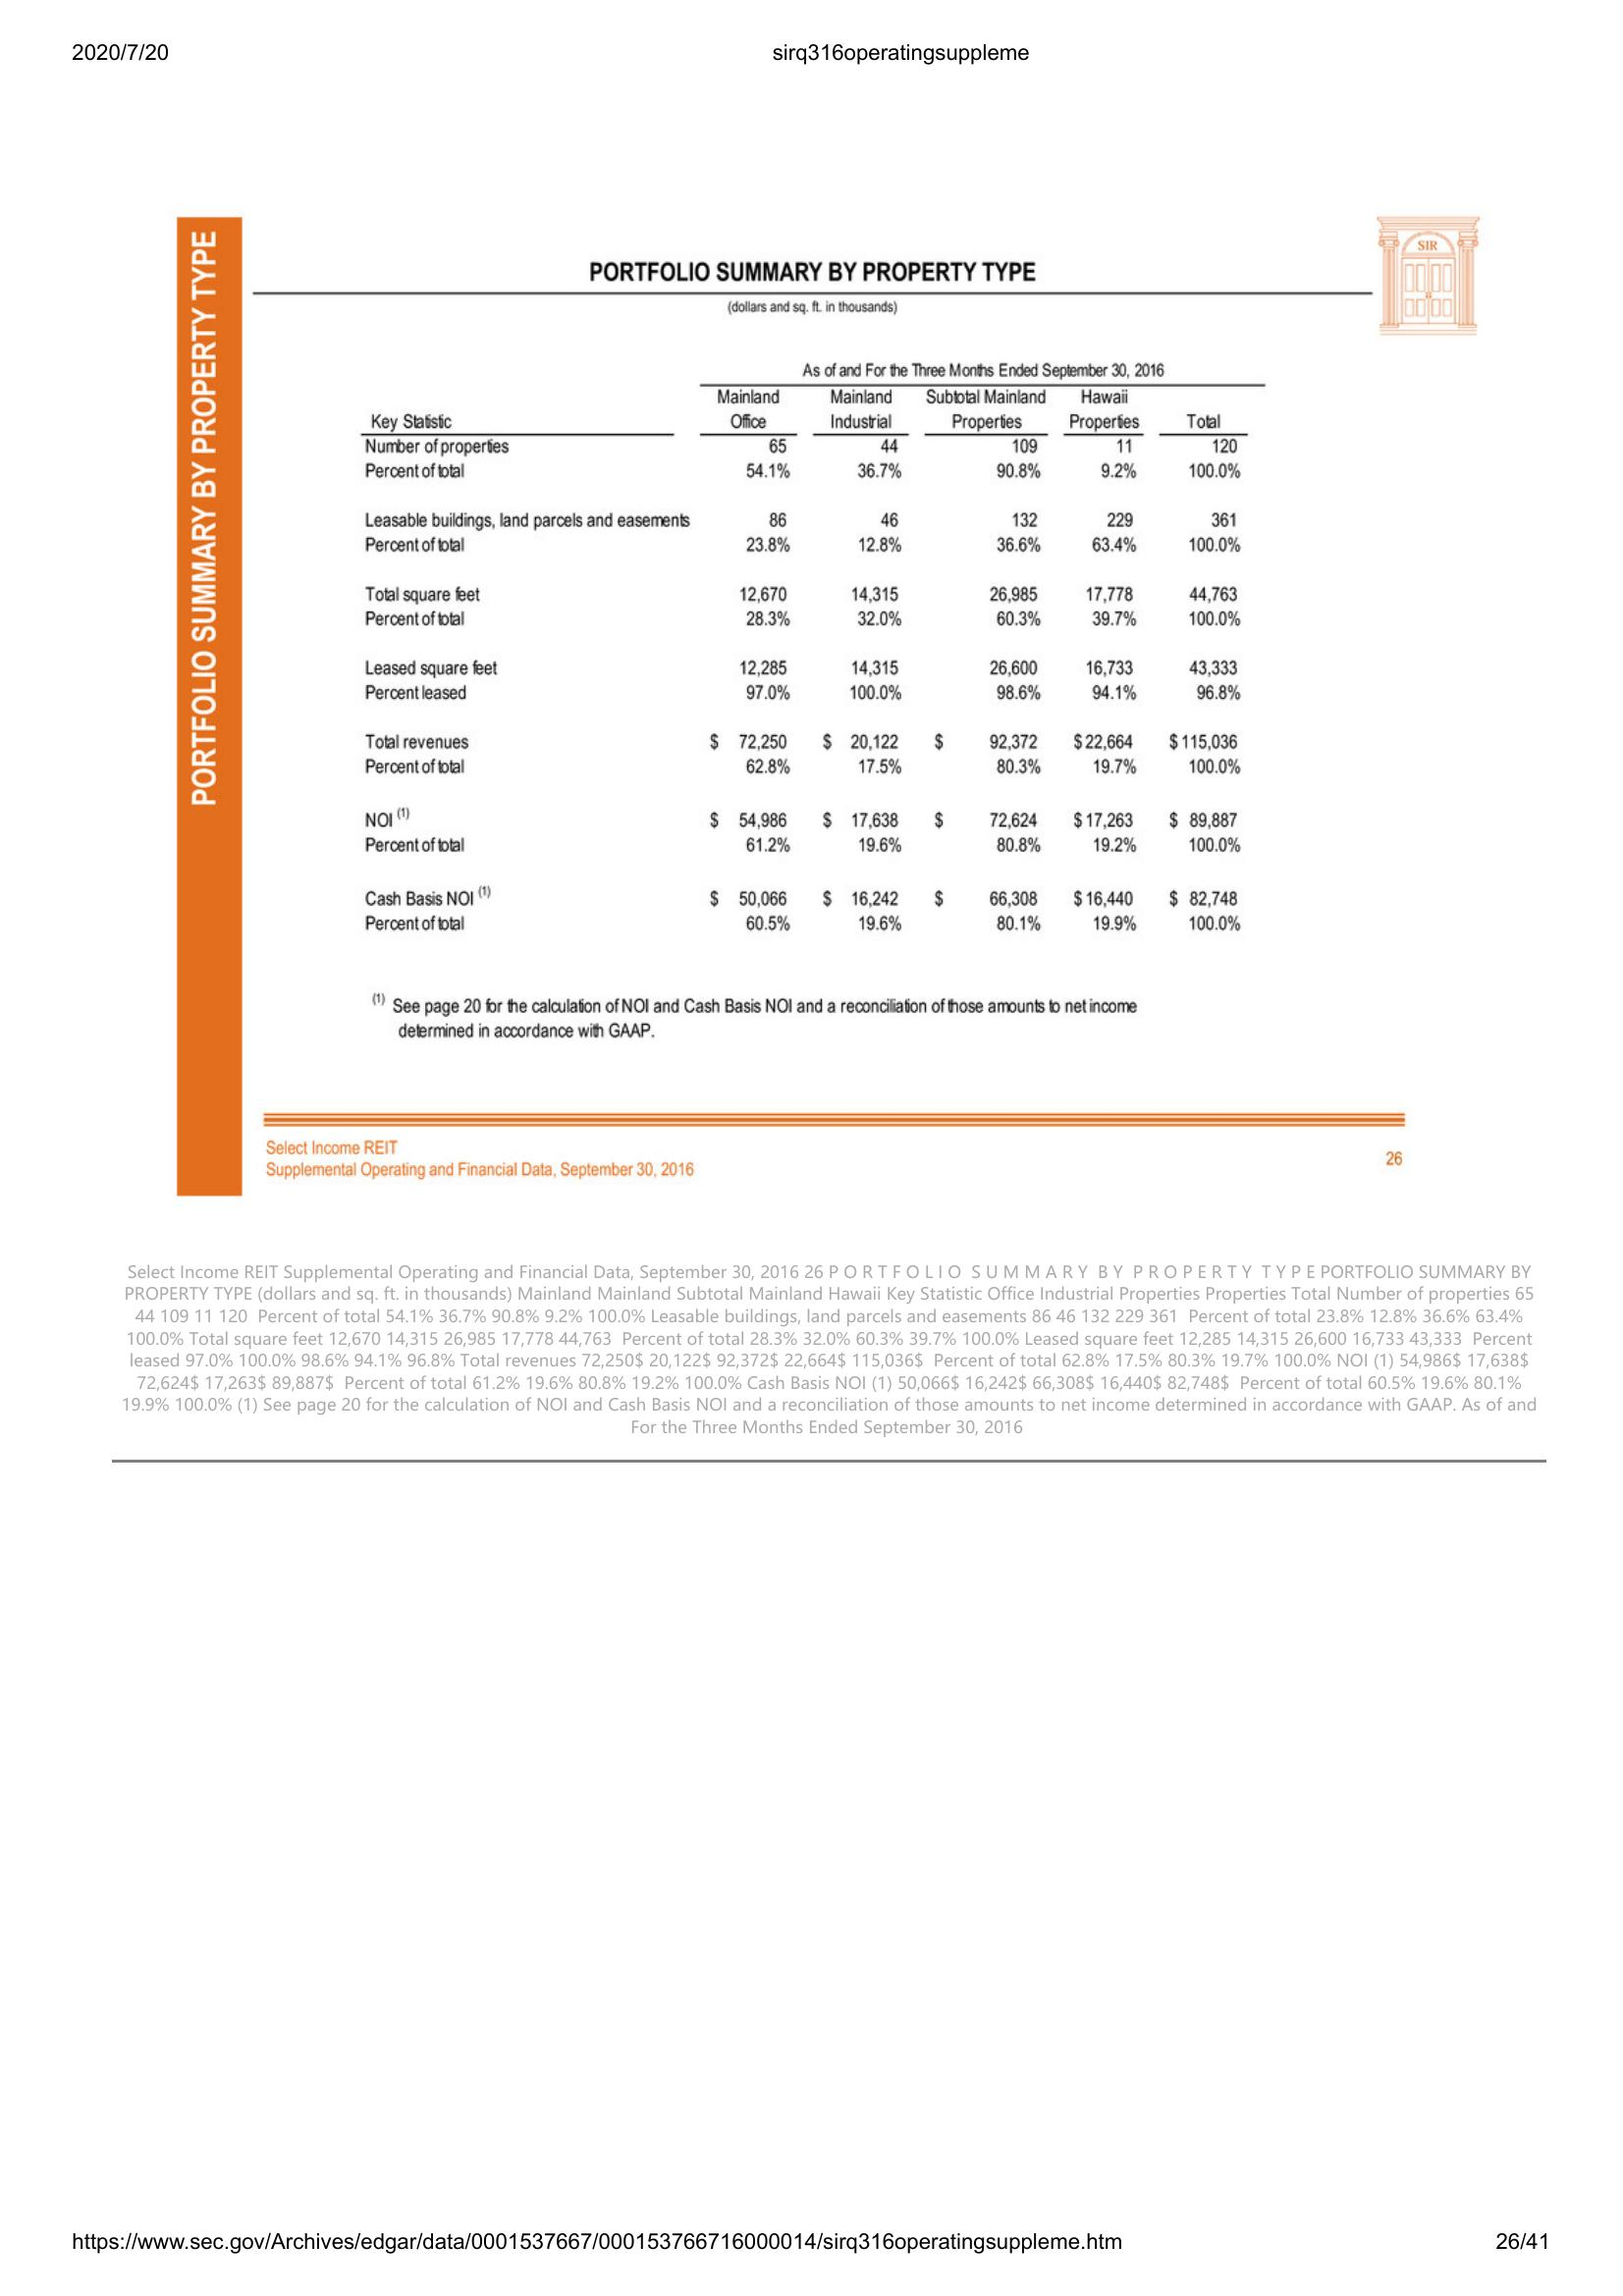table: (348, 356, 1245, 948)
